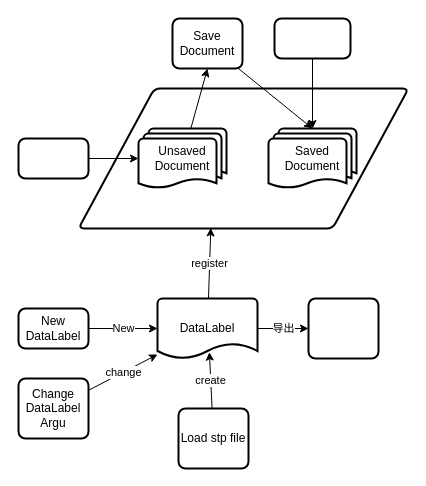
Some shapes in this 426 by 486 pixel diagram are drawn without their labels. The shapes that lost their labels are listed below. From the top down, each one's centre as x and y in pixels, then its label:
At [312,38]: "Open Document".
At [53,158]: "New Document".
At [343,328]: "save stp file".
